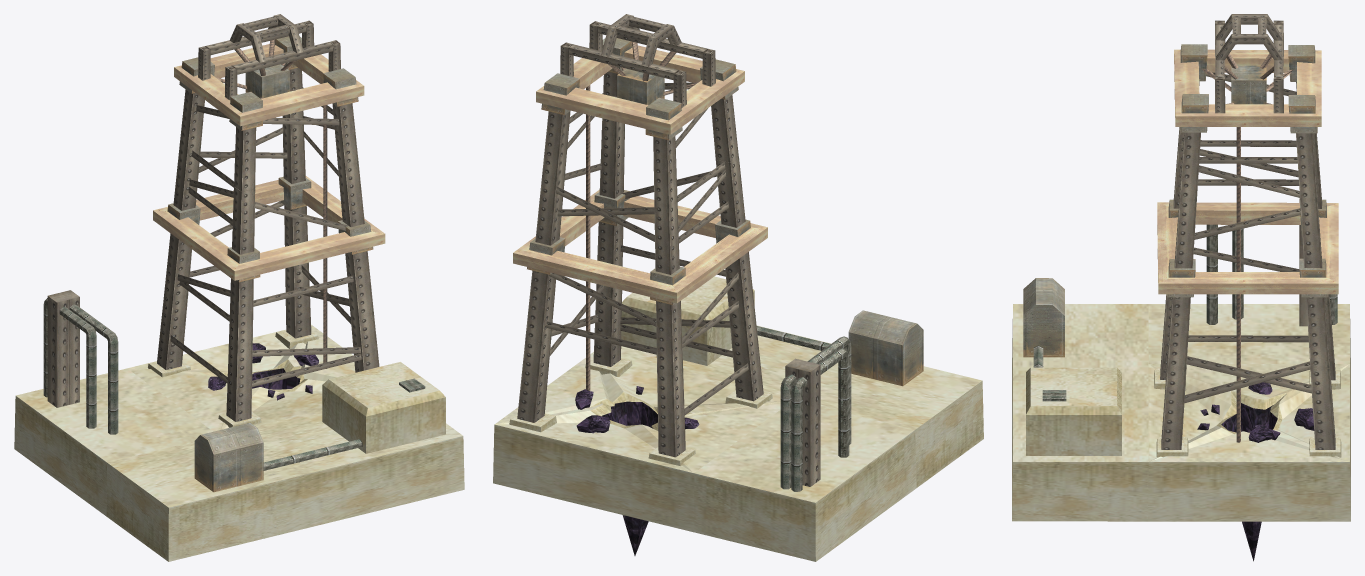
File: C2SMEXTWR_H.obj
The picture shows the model from 3 angles, left to right: view 1: azimuth 30°, elevation 25°; view 2: azimuth 150°, elevation 25°; view 3: azimuth 270°, elevation 25°; orthographic projection. The views are drawn at different scales.
Parts seen in each view (by area): view 1: Node 0, Node 12, Node 6, Node 2, Node 1, Node 14, Node 10, Node 11, Node 13, Node 29, Node 30, Node 7 (+2 smaller); view 2: Node 0, Node 12, Node 6, Node 10, Node 13, Node 2, Node 14, Node 29, Node 1, Node 11, Node 30, Node 7 (+6 smaller); view 3: Node 0, Node 12, Node 10, Node 6, Node 13, Node 2, Node 11, Node 28, Node 30, Node 27, Node 25, Node 26 (+5 smaller).
Part boxes in pixels (x1,y1,x2,y2): Node 0: (14, 186, 464, 561); Node 12: (174, 36, 364, 130); Node 6: (198, 14, 340, 100); Node 2: (194, 423, 263, 492); Node 1: (47, 290, 79, 407); Node 14: (167, 89, 204, 295); Node 10: (153, 176, 384, 233); Node 11: (332, 103, 364, 227); Node 13: (282, 68, 308, 269); Node 29: (43, 298, 96, 428); Node 30: (69, 304, 118, 434); Node 7: (234, 127, 256, 191); Node 0: (493, 156, 983, 561); Node 12: (536, 38, 744, 140); Node 6: (560, 14, 715, 107); Node 10: (513, 189, 676, 303); Node 13: (525, 111, 570, 343); Node 2: (848, 310, 923, 386); Node 14: (650, 136, 685, 371); Node 29: (791, 348, 849, 491); Node 1: (785, 358, 820, 486); Node 11: (599, 71, 624, 198); Node 30: (780, 336, 851, 489); Node 7: (711, 95, 738, 162); Node 0: (1012, 138, 1350, 561); Node 12: (1174, 44, 1321, 133); Node 10: (1158, 203, 1338, 297); Node 6: (1202, 14, 1292, 113); Node 13: (1296, 133, 1329, 368); Node 2: (1023, 278, 1064, 357); Node 11: (1174, 132, 1200, 268); Node 28: (1236, 127, 1240, 442); Node 30: (1206, 224, 1337, 324); Node 27: (1194, 208, 1300, 239); Node 25: (1198, 165, 1299, 197); Node 26: (1199, 157, 1297, 163).
Size of the model in its own units: 29.98 by 47.03 by 27.04.
40 materials, 40 textured.
